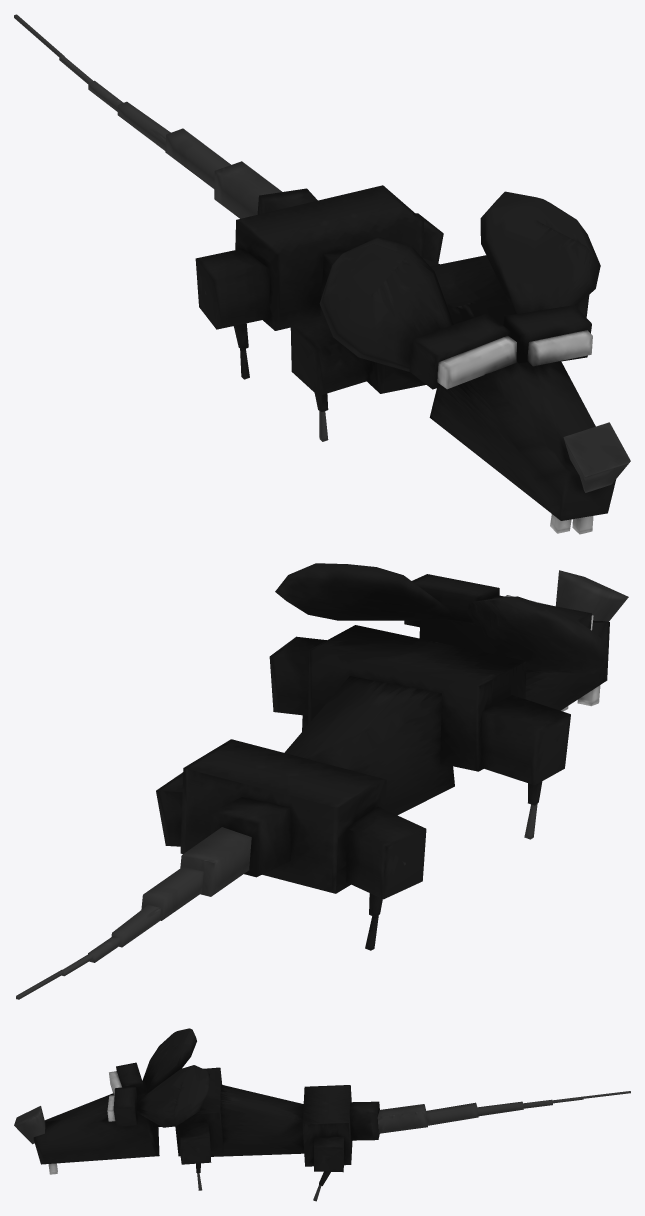
3 renders of one model, top to bottom at view 1: azimuth 30°, elevation 25°; view 2: azimuth 150°, elevation 25°; view 3: azimuth 270°, elevation 25°, orthographic. The views are drawn at different scales.
Visible parts, largest first — view 1: Paint.026; view 2: Paint.026; view 3: Paint.026.
Boxes of the visible parts, bbox=[...] form: Paint.026: bbox=[14, 14, 630, 534]; Paint.026: bbox=[16, 563, 628, 999]; Paint.026: bbox=[14, 1028, 630, 1201].
Size of the model in its own units: 0.1752 by 0.1404 by 0.6164.
1 material, 1 textured.
